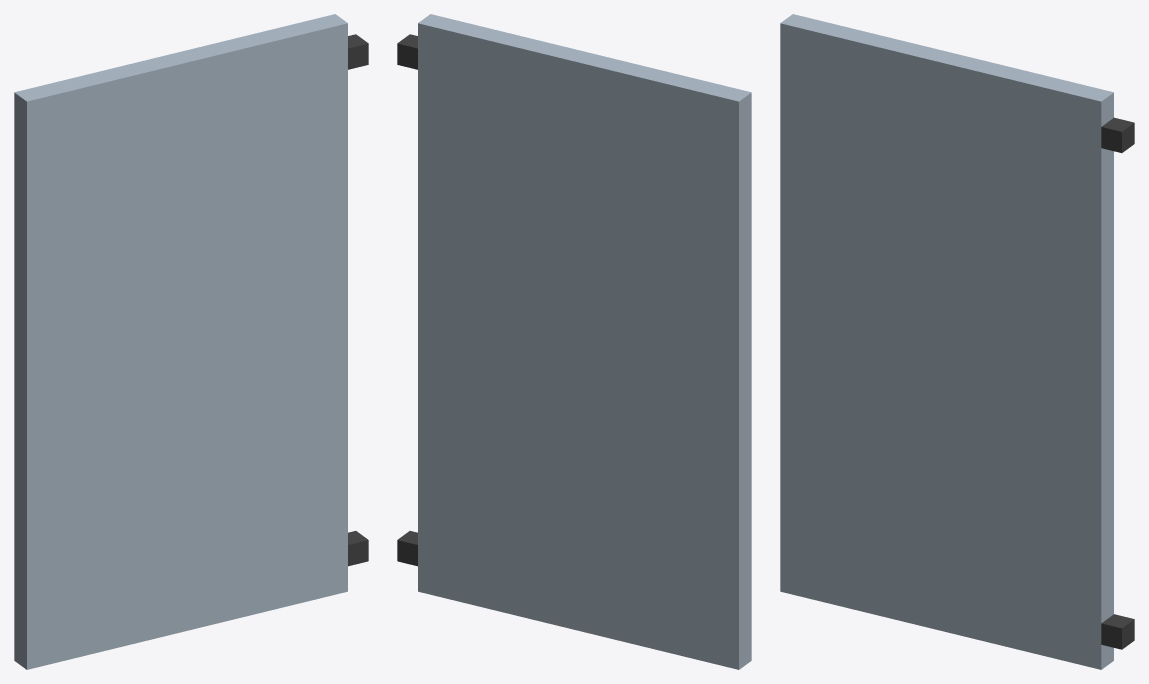
Rendered from Toilet_Booth_Door.fbx.
The picture shows the model from 3 angles, left to right: view 1: azimuth 30°, elevation 25°; view 2: azimuth 150°, elevation 25°; view 3: azimuth 330°, elevation 25°; orthographic projection.
Visible parts, largest first — view 1: Toilet_Booth_Door; view 2: Toilet_Booth_Door; view 3: Toilet_Booth_Door.
Part boxes in pixels (<box>): Toilet_Booth_Door: <box>14,14,368,669</box>; Toilet_Booth_Door: <box>397,14,751,669</box>; Toilet_Booth_Door: <box>780,14,1134,669</box>.
Size of the model in its own units: 352 by 559 by 22.64.
